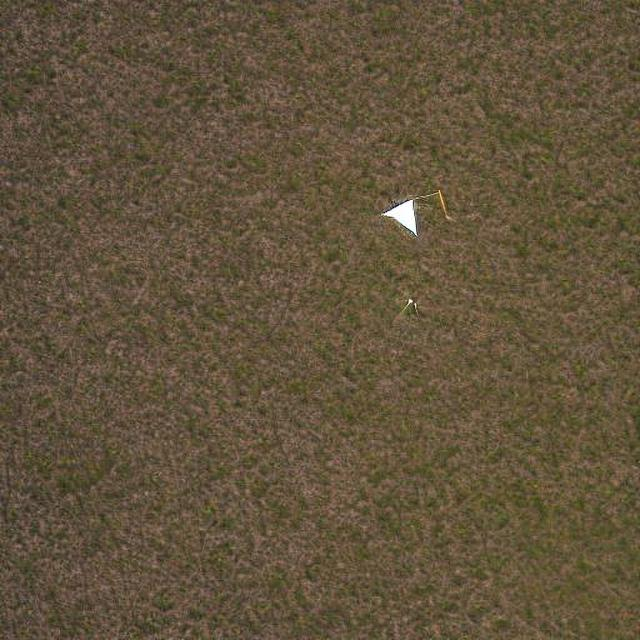floating object: (379, 196, 420, 240), (398, 296, 423, 322)
